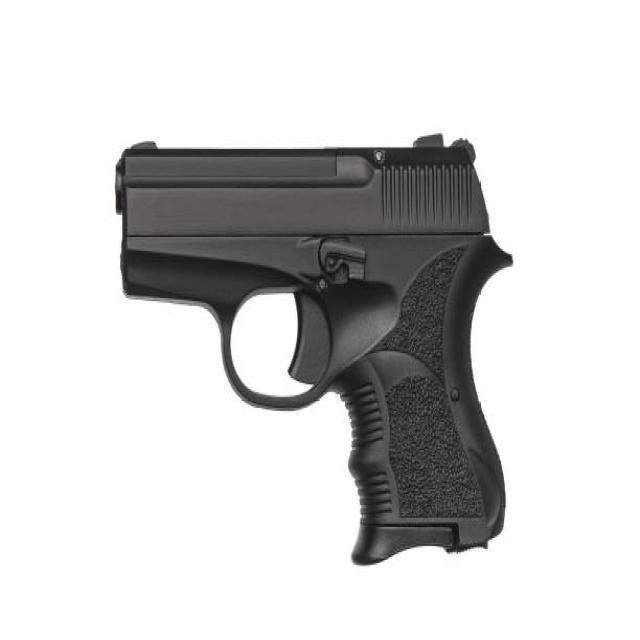pistol: (107, 129, 516, 577)
